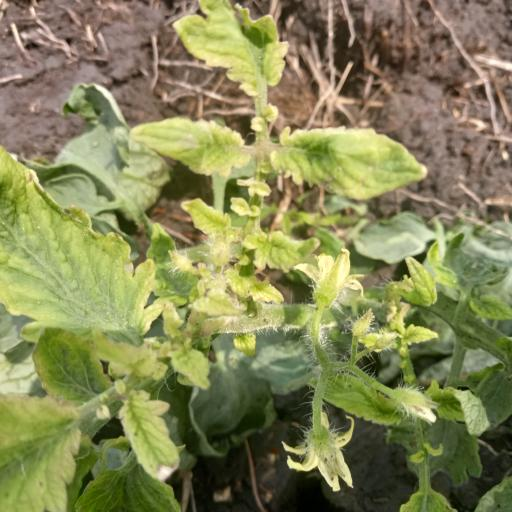Tomato_Mosaic: (0, 138, 175, 343)
